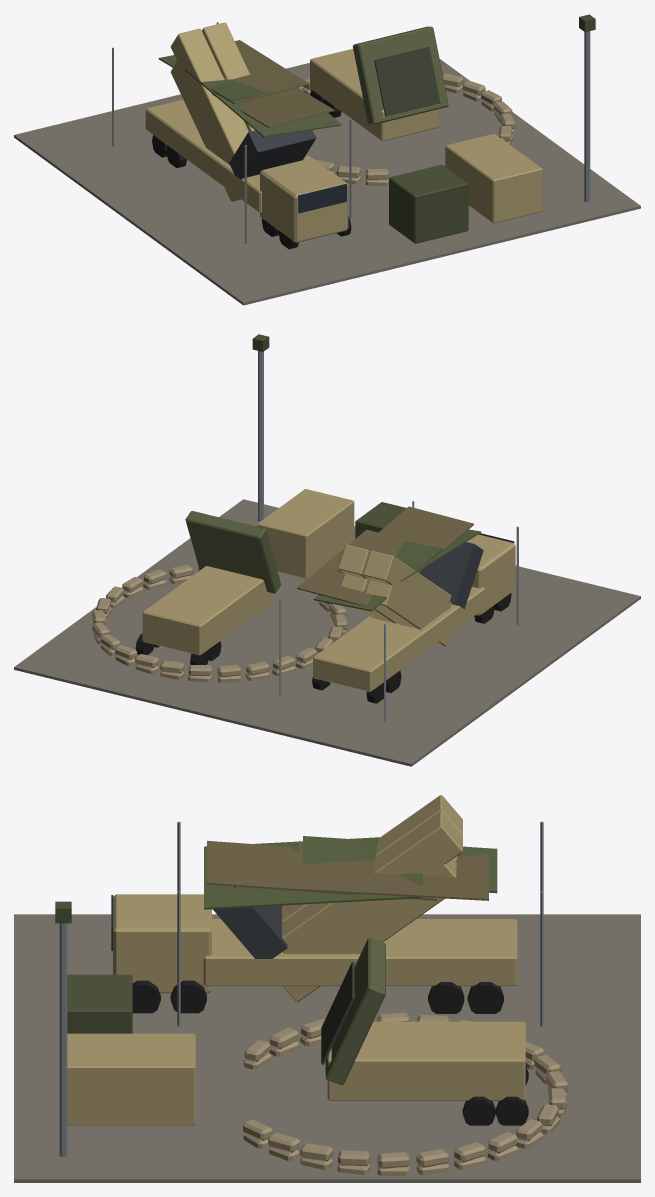
File: sam_l.glb
The picture shows the model from 3 angles, top to bottom: view 1: azimuth 30°, elevation 25°; view 2: azimuth 150°, elevation 25°; view 3: azimuth 270°, elevation 25°; orthographic projection. The views are drawn at different scales.
Parts seen in each view (by area): view 1: sam_l; view 2: sam_l; view 3: sam_l.
Part boxes in pixels (<box>): sam_l: <box>14,14,640,305</box>; sam_l: <box>14,334,640,766</box>; sam_l: <box>14,795,640,1182</box>.
Size of the model in its own units: 19 by 8.5 by 19.
